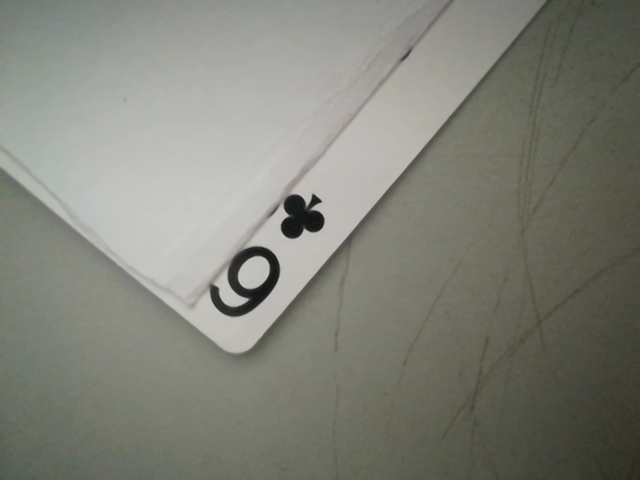mh 6: (201, 186, 337, 336)
